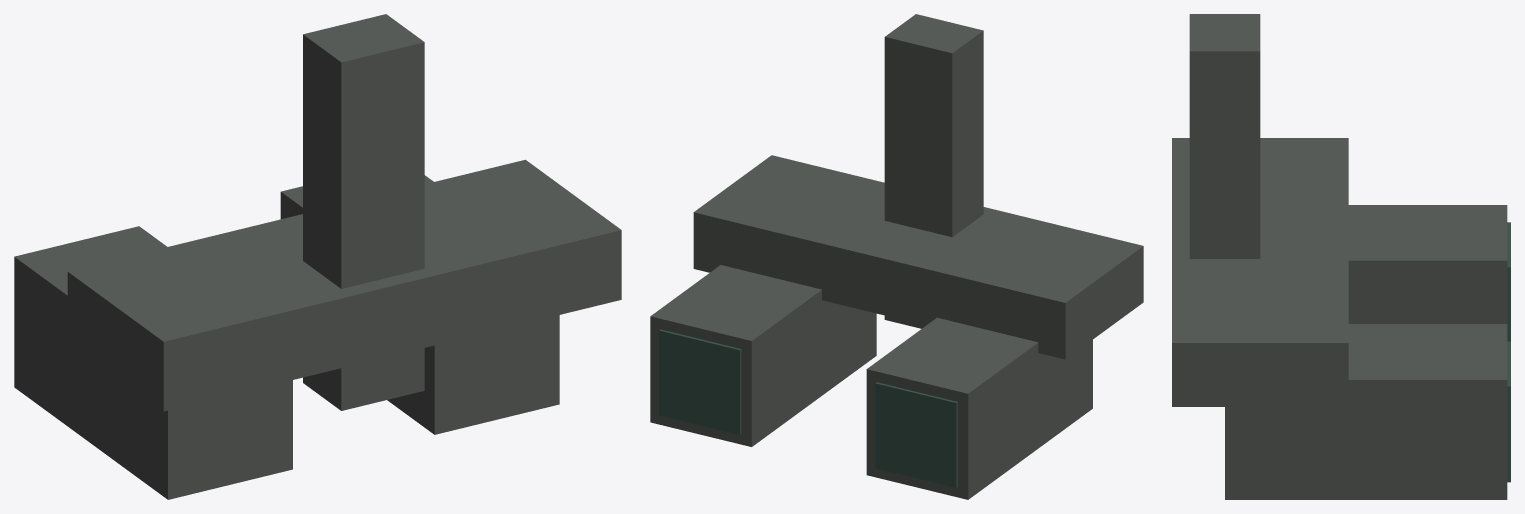
The model's file is nvg_pvs31.glb.
The picture shows the model from 3 angles, left to right: view 1: azimuth 30°, elevation 25°; view 2: azimuth 150°, elevation 25°; view 3: azimuth 270°, elevation 25°; orthographic projection. The views are drawn at different scales.
Visible parts, largest first — view 1: goggle_mesh; view 2: goggle_mesh; view 3: goggle_mesh.
Boxes of the visible parts, <box> form: goggle_mesh: <box>14,14,621,499</box>; goggle_mesh: <box>650,14,1143,499</box>; goggle_mesh: <box>1172,14,1510,499</box>.
Size of the model in its own units: 0.275 by 0.2375 by 0.192.
